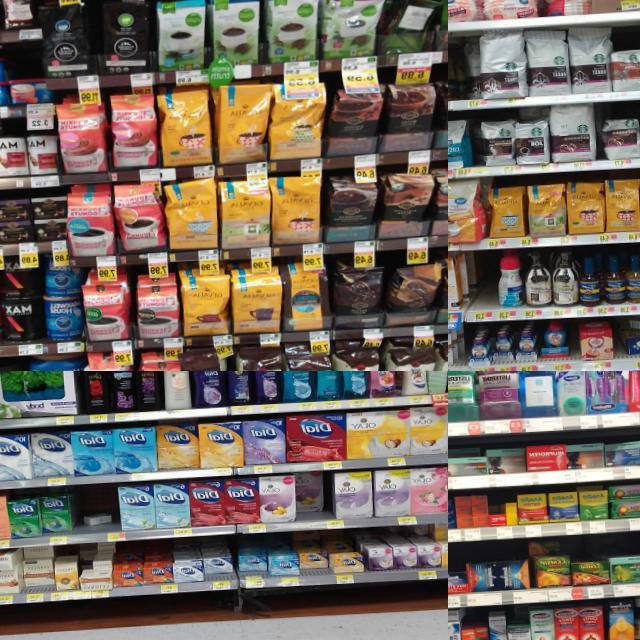empty: (473, 255, 497, 321), (101, 484, 119, 542)
